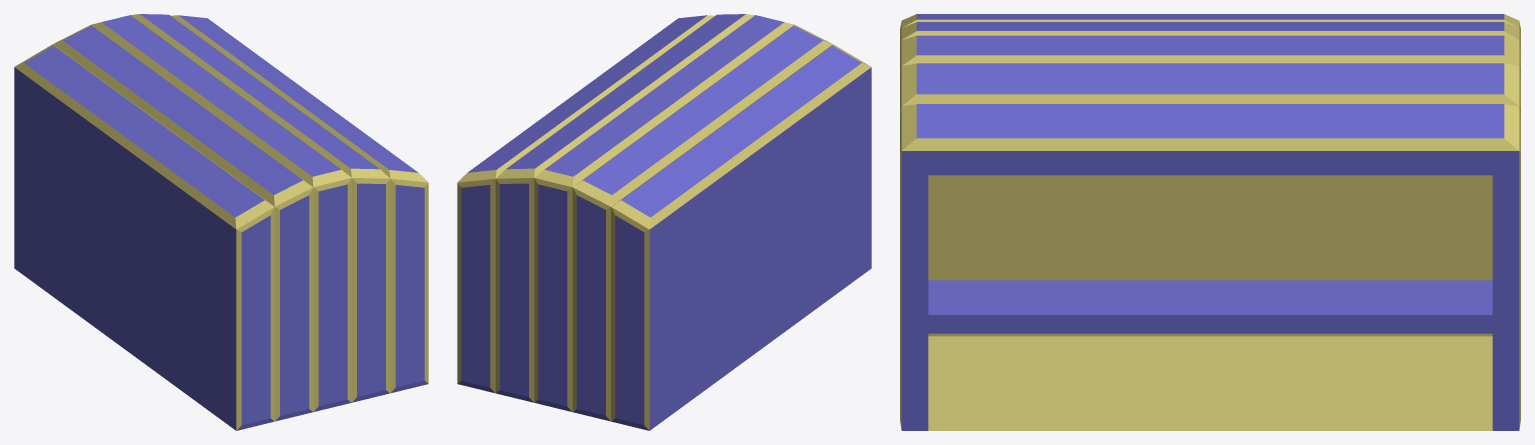
The model's file is BaseballDugout.fbx.
The picture shows the model from 3 angles, left to right: view 1: azimuth 30°, elevation 25°; view 2: azimuth 150°, elevation 25°; view 3: azimuth 270°, elevation 25°; orthographic projection. The views are drawn at different scales.
Visible parts, largest first — view 1: Cube; view 2: Cube; view 3: Cube, Cube.001.
Part boxes in pixels (x1,y1,x2,y2): Cube: (14, 14, 428, 430); Cube: (457, 14, 871, 430); Cube: (900, 14, 1520, 430); Cube.001: (928, 280, 1492, 333).
Size of the model in its own units: 300 by 343 by 603.
